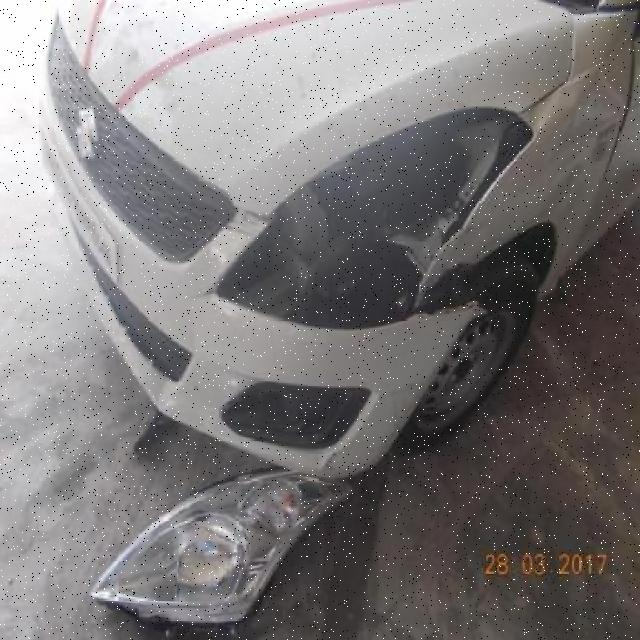damage: (185, 100, 533, 340), (551, 59, 628, 180), (91, 40, 173, 149), (387, 375, 430, 444), (145, 378, 181, 417), (321, 447, 342, 479)
